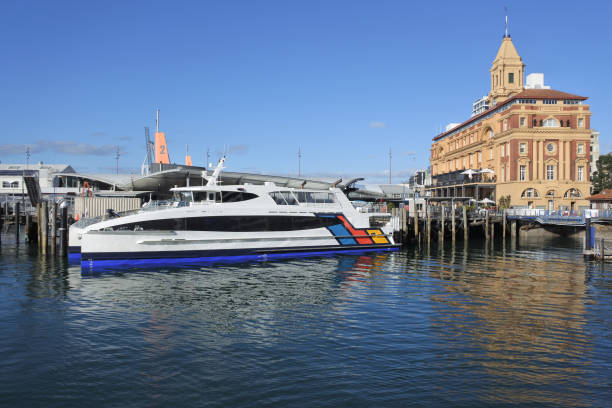ferry: (68, 158, 402, 270)
